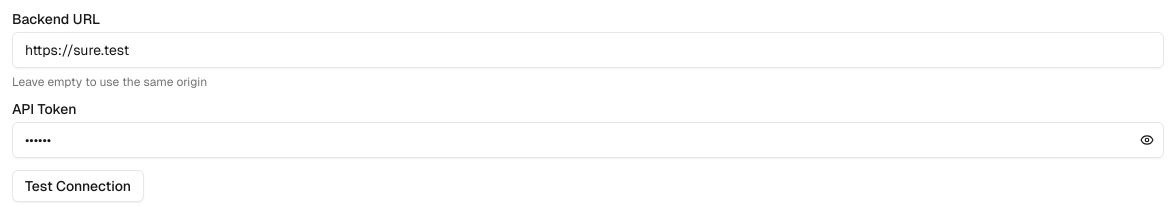
it: ConnectionSettings › shows failure after failed connection test
Click the button "Test Connection".
click(78, 186)  # box [12, 170, 144, 202]
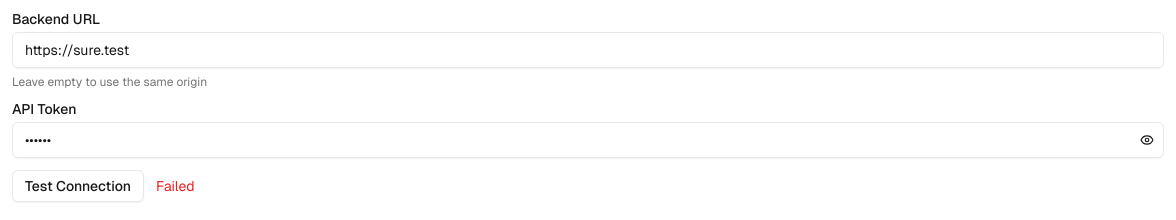
Now the text "Failed" is shown, box [156, 176, 195, 196]
